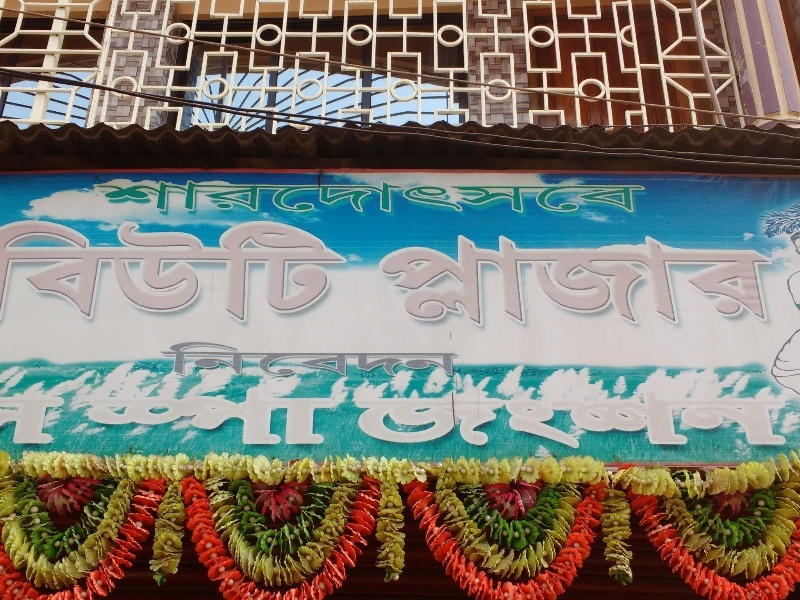text: (17, 219, 32, 330), (33, 219, 48, 330), (49, 219, 64, 330), (65, 219, 80, 330), (81, 219, 96, 330), (97, 219, 112, 330), (113, 219, 128, 330), (129, 219, 144, 330), (145, 219, 160, 330), (161, 219, 176, 330), (177, 219, 192, 330), (193, 219, 208, 330), (209, 219, 224, 330), (225, 219, 240, 330), (241, 219, 256, 330), (257, 219, 272, 330), (273, 219, 288, 330), (289, 219, 304, 330), (305, 219, 320, 330), (321, 219, 336, 330), (385, 233, 400, 338), (401, 233, 416, 338), (417, 233, 432, 338), (433, 233, 448, 338), (449, 233, 464, 338), (465, 233, 480, 338), (481, 233, 496, 338), (497, 233, 512, 338), (513, 233, 528, 338), (529, 233, 544, 338), (545, 233, 560, 338), (561, 233, 576, 338), (577, 233, 592, 338), (593, 233, 608, 338), (609, 233, 624, 338), (625, 233, 640, 338), (641, 233, 656, 338), (657, 233, 672, 338), (673, 233, 688, 338), (689, 233, 704, 338), (705, 233, 720, 338), (721, 233, 736, 338), (737, 233, 752, 338), (753, 233, 768, 338), (4, 219, 16, 330), (81, 387, 96, 456), (97, 387, 112, 456), (113, 387, 128, 456), (129, 387, 144, 456), (145, 387, 160, 456), (161, 387, 176, 456), (177, 387, 192, 456), (193, 387, 208, 456), (209, 387, 224, 456), (225, 387, 240, 456), (241, 387, 256, 456), (257, 387, 272, 456), (273, 387, 288, 456), (289, 387, 304, 456), (305, 387, 320, 456), (321, 387, 336, 456), (337, 387, 352, 456), (353, 388, 368, 453), (369, 388, 384, 453), (385, 388, 400, 453), (401, 388, 416, 453), (417, 388, 432, 453), (433, 388, 448, 453), (449, 388, 464, 453), (465, 388, 480, 453), (481, 388, 496, 453), (497, 388, 512, 453), (513, 388, 528, 453), (529, 388, 544, 453), (545, 388, 560, 453), (561, 388, 576, 453), (577, 388, 592, 453), (593, 388, 608, 453), (609, 388, 624, 453), (625, 388, 640, 453), (641, 388, 656, 453), (657, 388, 672, 453), (673, 388, 688, 453), (689, 388, 704, 453), (705, 388, 720, 453), (721, 388, 736, 453), (737, 388, 752, 453), (753, 388, 768, 453), (769, 388, 784, 453), (769, 233, 778, 338), (337, 219, 345, 330), (1, 394, 16, 447), (17, 394, 32, 447), (33, 394, 48, 447), (49, 394, 64, 447), (785, 388, 795, 453), (97, 179, 112, 221), (113, 179, 128, 221), (129, 179, 144, 221), (145, 179, 160, 221), (161, 179, 176, 221), (177, 179, 192, 221), (193, 179, 208, 221), (209, 179, 224, 221), (225, 179, 240, 221), (241, 179, 256, 221), (257, 179, 272, 221), (273, 179, 288, 221), (289, 179, 304, 221), (305, 179, 320, 221), (321, 179, 336, 221), (337, 179, 352, 221), (353, 179, 368, 221), (369, 179, 384, 221), (385, 179, 400, 221), (401, 179, 416, 221), (417, 179, 432, 221), (433, 179, 448, 221), (449, 179, 464, 221), (465, 179, 480, 221), (481, 179, 496, 221), (497, 179, 512, 221), (513, 179, 528, 221), (529, 179, 544, 221), (545, 179, 560, 221), (561, 179, 576, 221), (577, 179, 592, 221), (593, 179, 608, 221), (609, 179, 624, 221), (625, 179, 640, 221), (71, 387, 80, 456), (449, 342, 465, 377), (161, 342, 176, 377), (177, 342, 192, 377), (193, 342, 208, 377), (209, 342, 224, 377), (225, 342, 240, 377), (241, 342, 256, 377), (257, 342, 272, 377), (273, 342, 288, 377), (289, 342, 304, 377), (305, 342, 320, 377), (321, 342, 336, 377), (337, 342, 352, 377), (353, 342, 368, 377), (369, 342, 384, 377), (385, 342, 400, 377), (401, 342, 416, 377), (417, 342, 432, 377), (433, 342, 448, 377), (84, 179, 96, 221), (381, 233, 384, 338), (641, 179, 648, 221), (353, 387, 356, 456), (349, 388, 352, 453), (65, 394, 66, 447)
